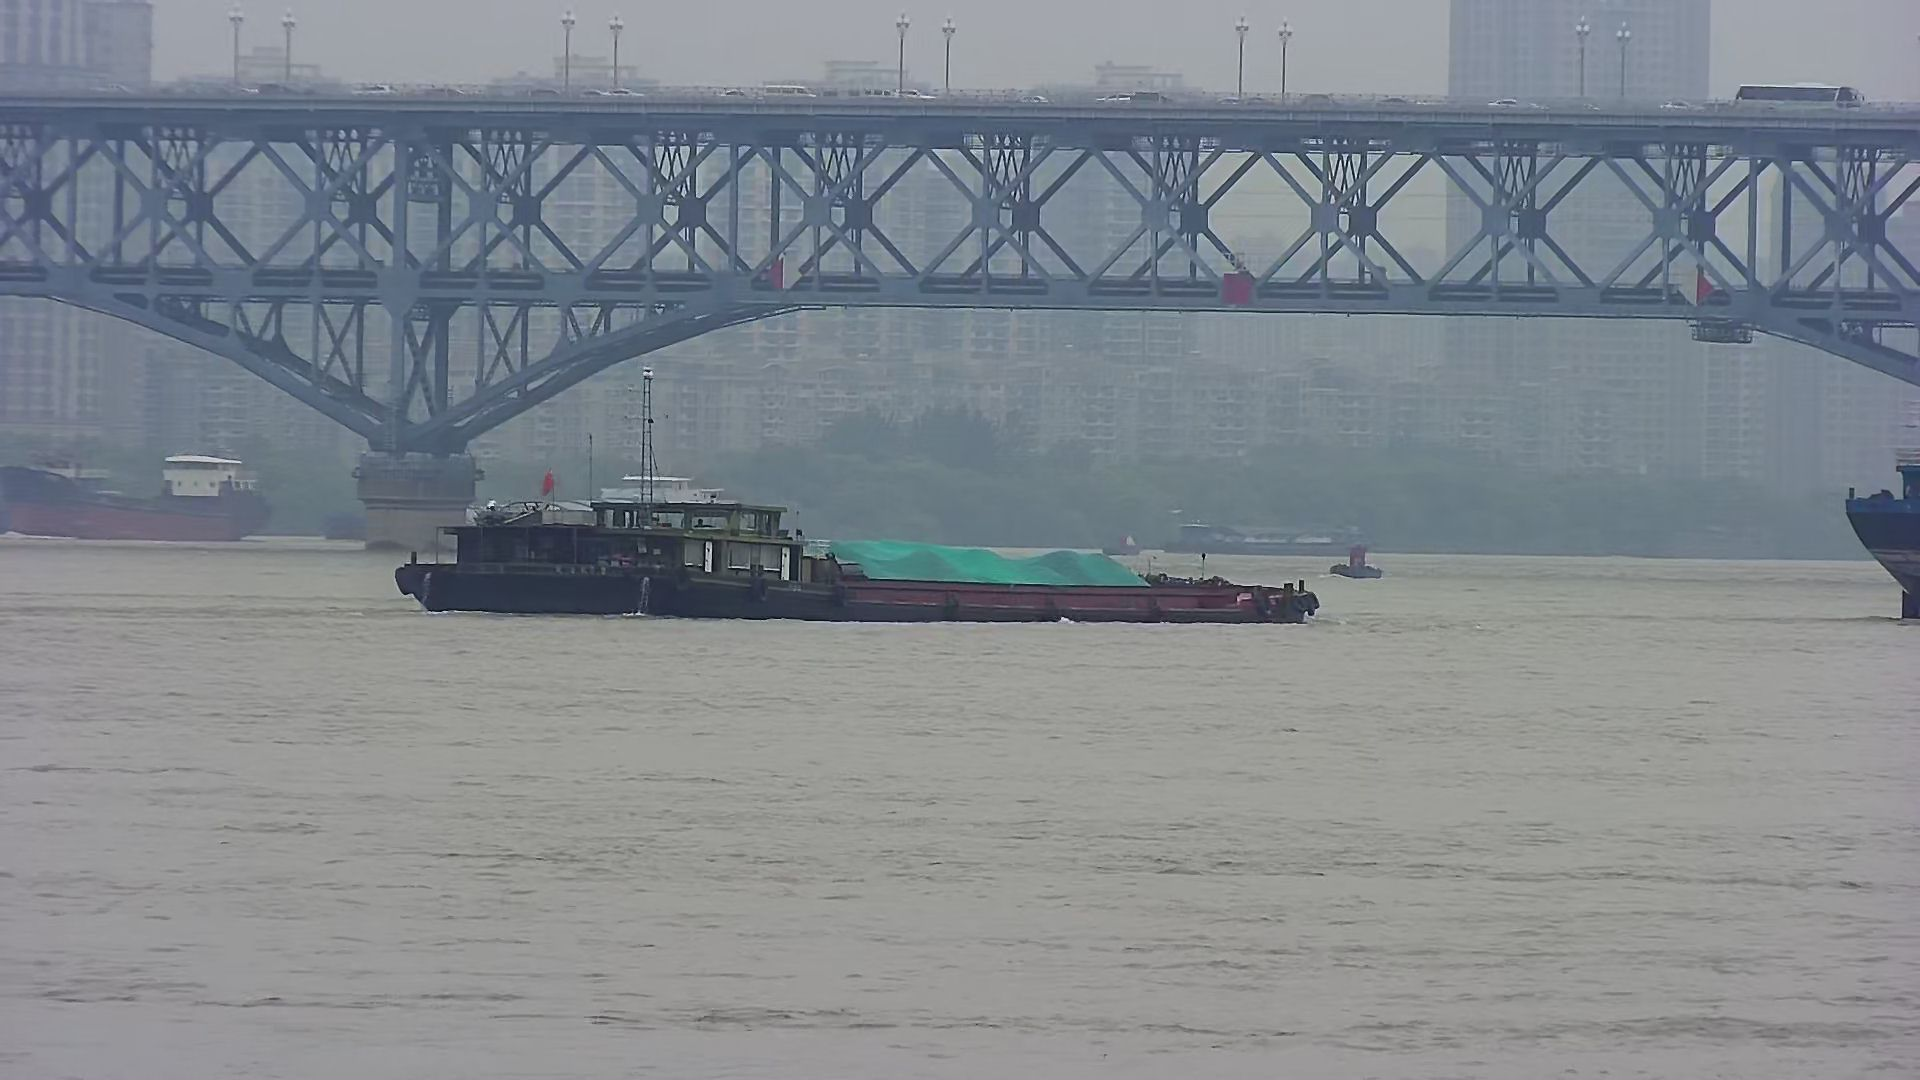bridge: (3, 69, 1908, 455)
ship: (396, 407, 1323, 630), (7, 448, 266, 550)
